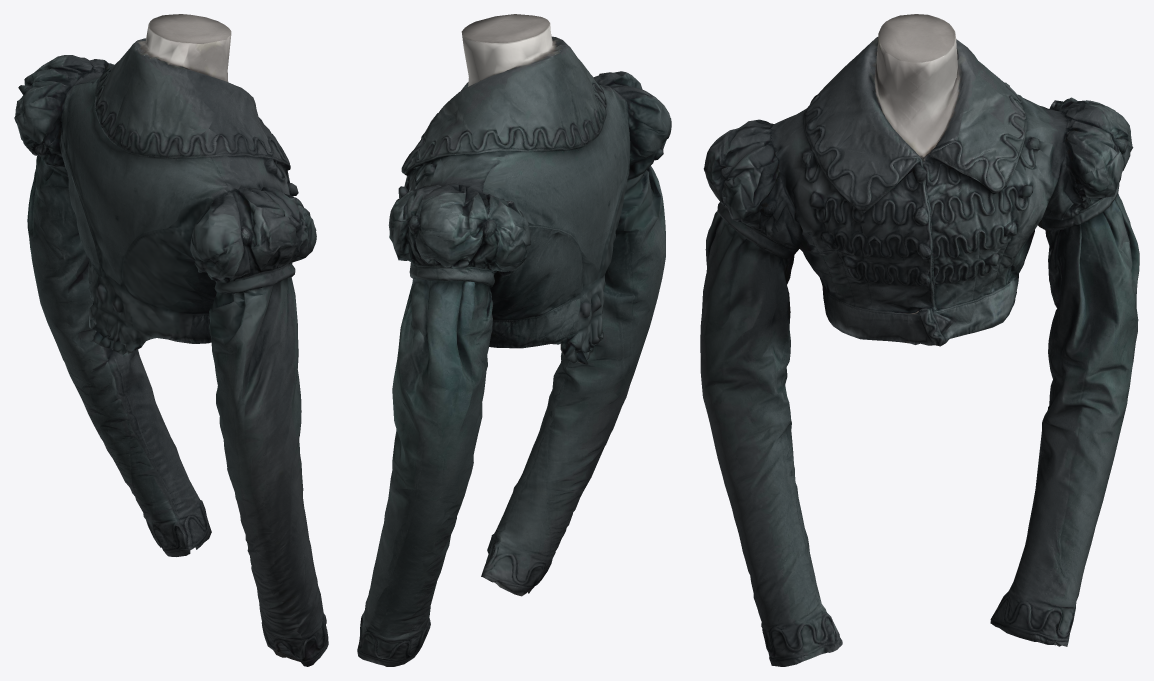
The model's file is spencer_jacket.glb.
The picture shows the model from 3 angles, left to right: view 1: azimuth 30°, elevation 25°; view 2: azimuth 150°, elevation 25°; view 3: azimuth 270°, elevation 25°; orthographic projection. The views are drawn at different scales.
Visible parts, largest first — view 1: spencer_jacket; view 2: spencer_jacket; view 3: spencer_jacket.
Part boxes in pixels (x1,y1,x2,y2): spencer_jacket: (14, 14, 328, 666); spencer_jacket: (357, 14, 671, 666); spencer_jacket: (700, 14, 1139, 666).
Size of the model in its own units: 22.59 by 73.35 by 47.91.
1 material, 1 textured.
